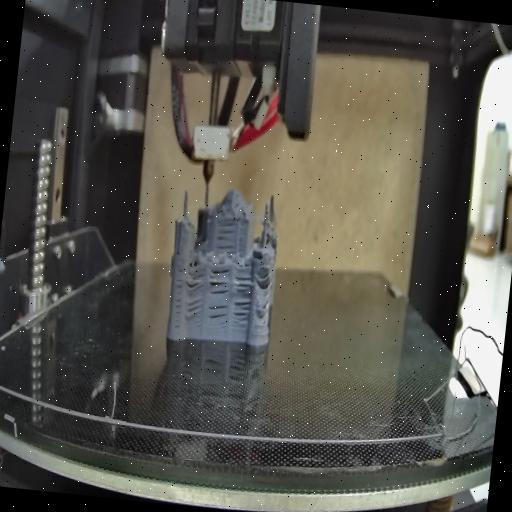cracks: (230, 268, 255, 326), (214, 217, 240, 254), (206, 262, 232, 298), (172, 268, 185, 322), (256, 263, 275, 293), (185, 264, 206, 290), (184, 294, 204, 321), (254, 296, 272, 324), (207, 302, 228, 324)
